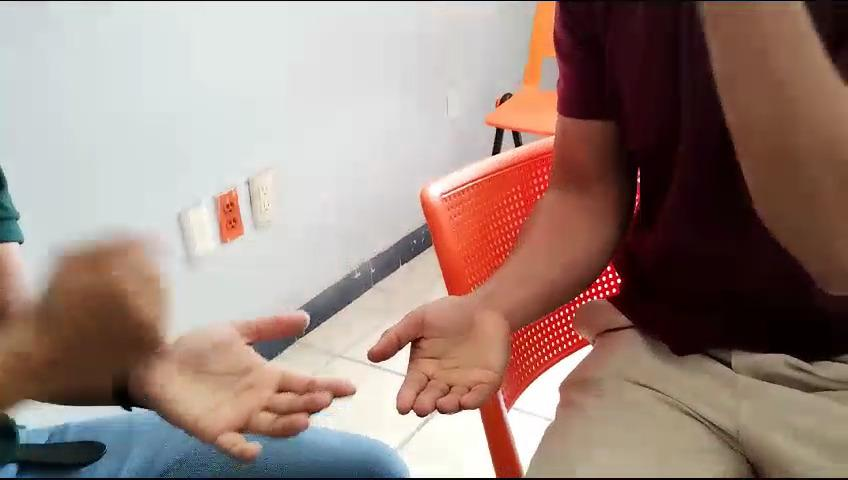Paper: (358, 290, 533, 429)
Stone: (33, 230, 183, 419)
